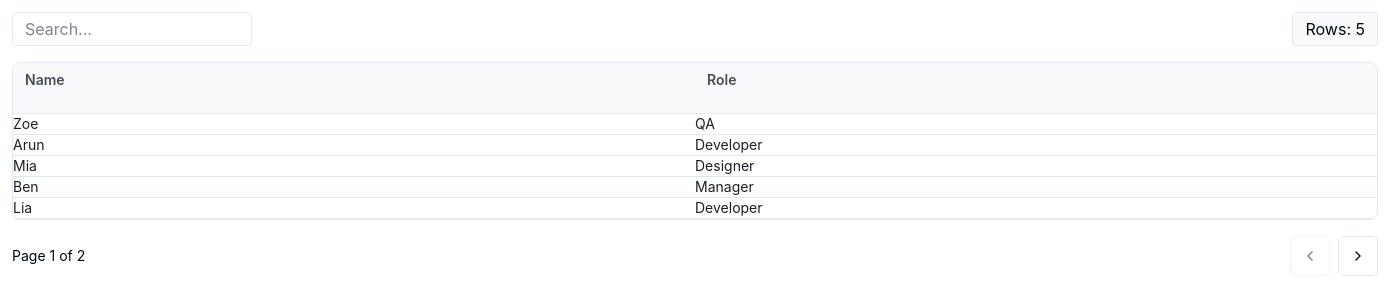
Scenario: Table › sorts by selected column and toggles sort direction
Click the text "Name": (45,80) [25,71,65,88]
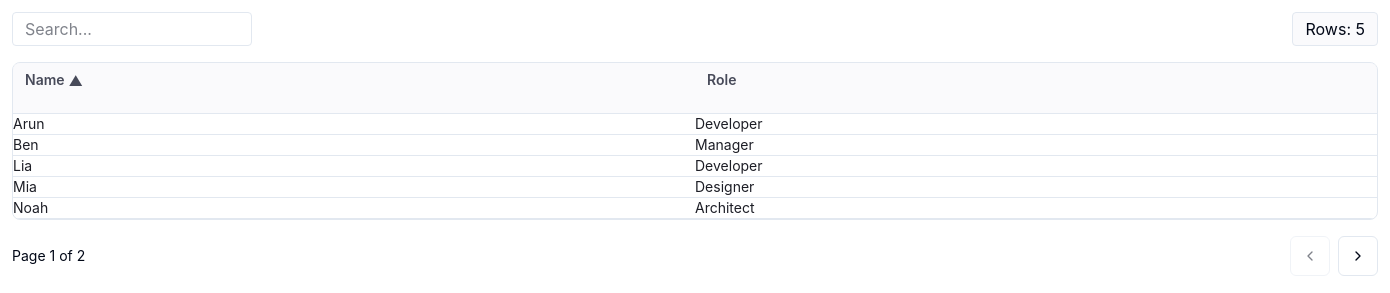
Expected: the row "Arun Developer" is shown, [13,113,1377,134]
Expected: the text "▲" is shown, [69,71,83,91]
Click the text "Name": (45,80) [25,71,65,88]
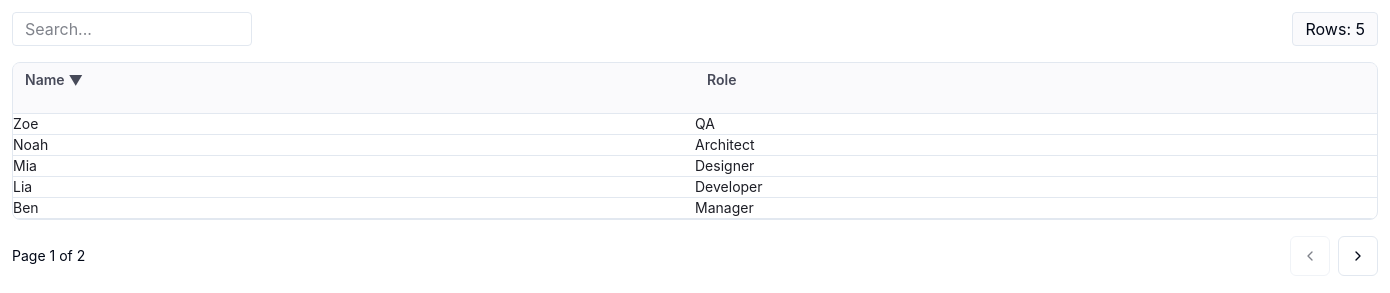
Expected: the row "Zoe QA" is shown, [13,113,1377,134]
Expected: the text "▼" is shown, [69,71,83,91]
Click the text "Name": (45,80) [25,71,65,88]
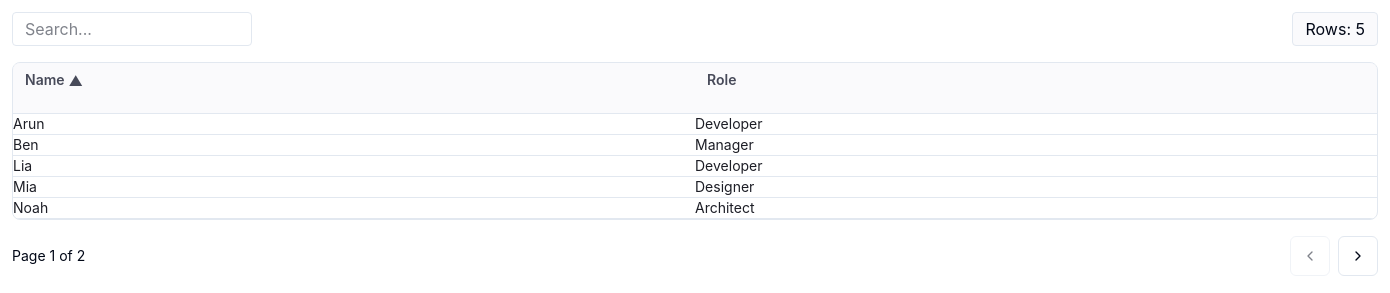
Expected: the text "▲" is shown, [69,71,83,91]
